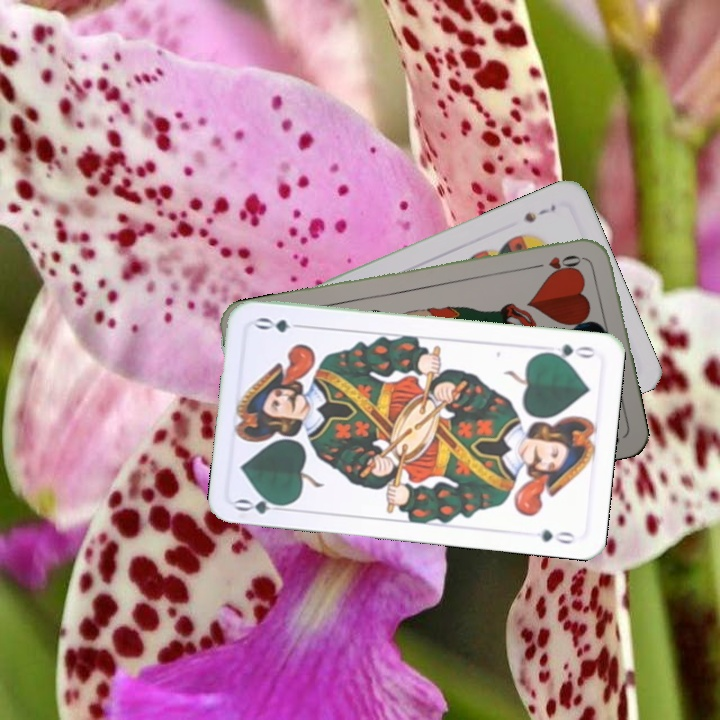GO: (232, 491, 292, 517), (539, 340, 598, 363)
HO: (528, 250, 587, 273)
S7: (519, 200, 559, 226)
